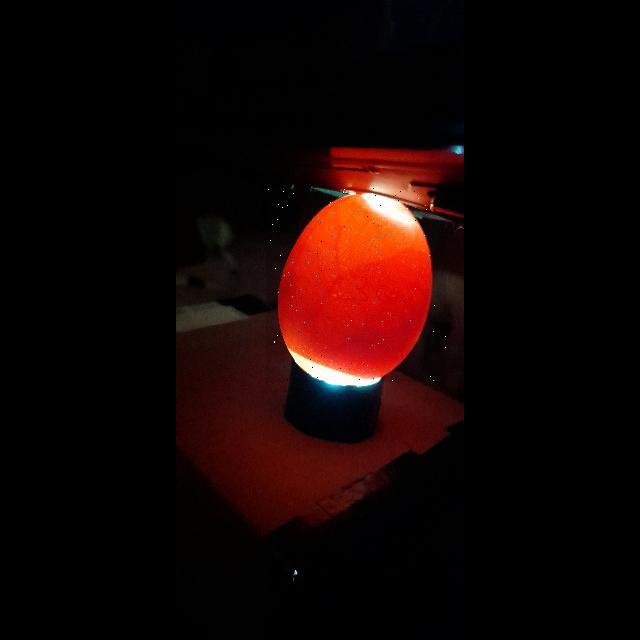Fertile: (266, 186, 446, 382)
